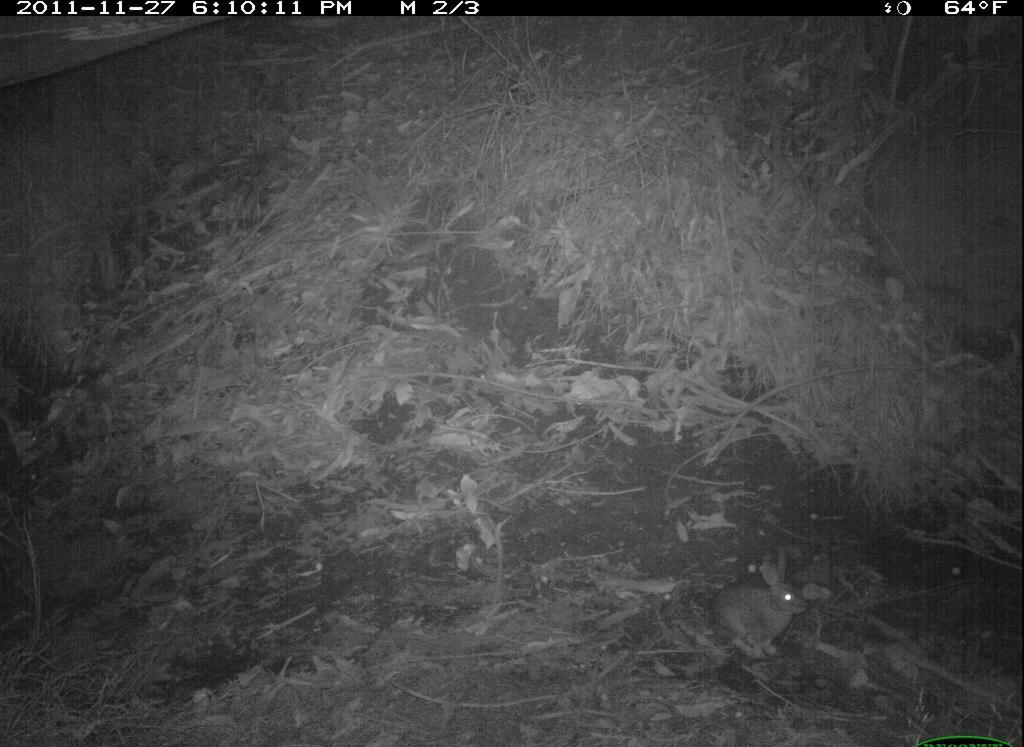rabbit: (710, 541, 820, 665)
